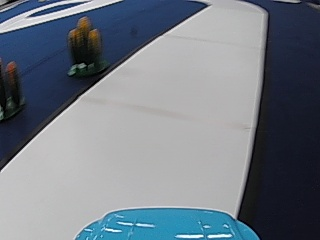corn: (66, 13, 104, 79), (1, 60, 27, 120)
